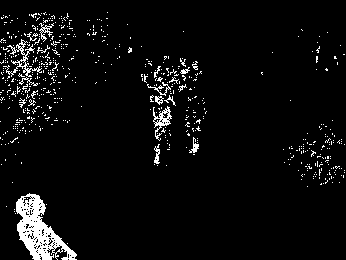person: (150, 80, 178, 168)
